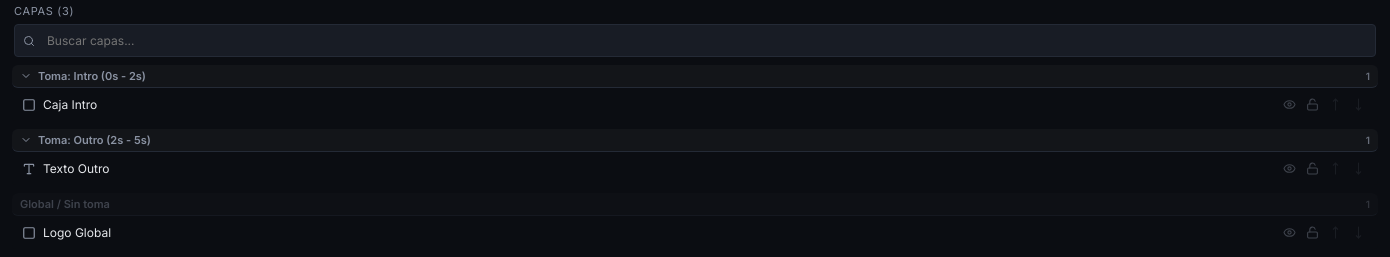
Test: LayersPanel search, shot grouping, and auto-reveal › groups elements by shot and toggles shot collapse
expect the text "Toma: Outro (2s - 5s)" is shown: met, box [38,133,151,147]
expect the text "Global / Sin toma" is shown: met, box [20,197,110,211]
Note: Click on Intro shot header to collapse it
Click the text "Toma: Intro (0s - 2s)" at (92, 76), box [38,69,146,83]
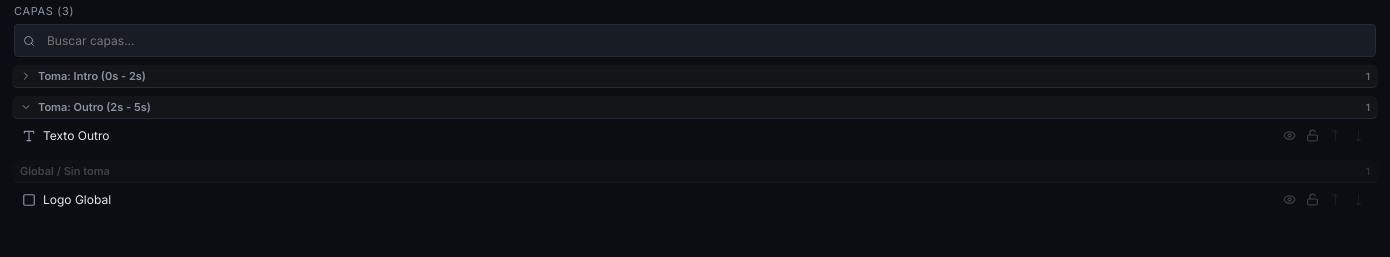
expect the text "Texto Outro" is shown: met, box [43,128,109,143]
expect the text "Caja Intro" is gone: met
